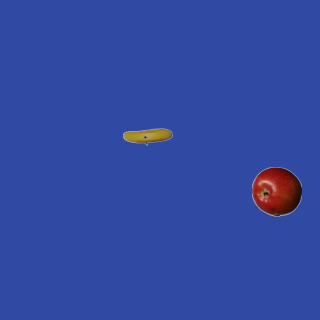Apple Braeburn: (251, 166, 301, 216)
Banana: (122, 111, 172, 161)
